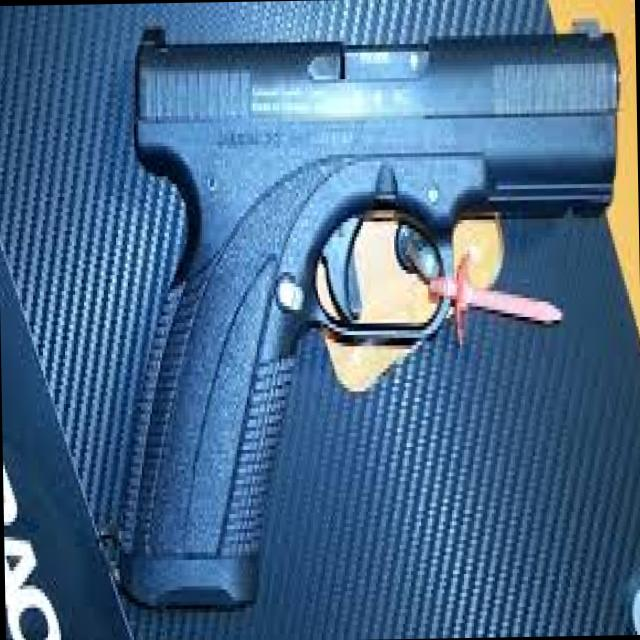Gun: (118, 7, 634, 632)
